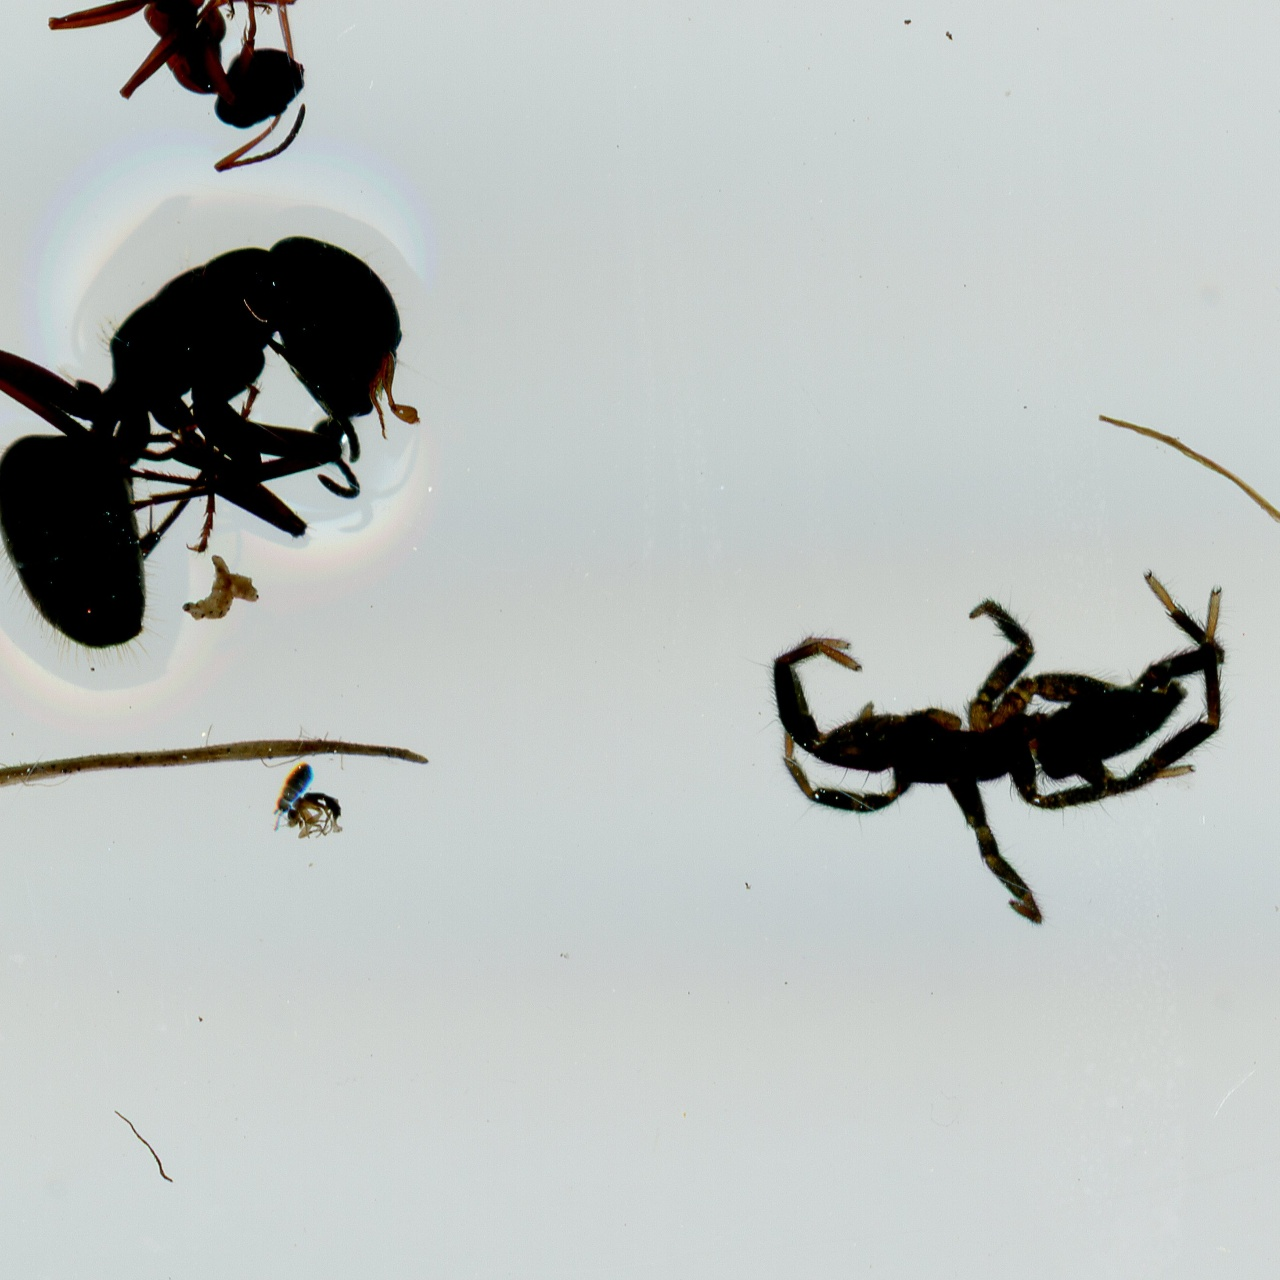arthropod: (0, 227, 434, 670), (740, 558, 1234, 940), (39, 0, 373, 178), (257, 754, 322, 838), (279, 790, 345, 842)
